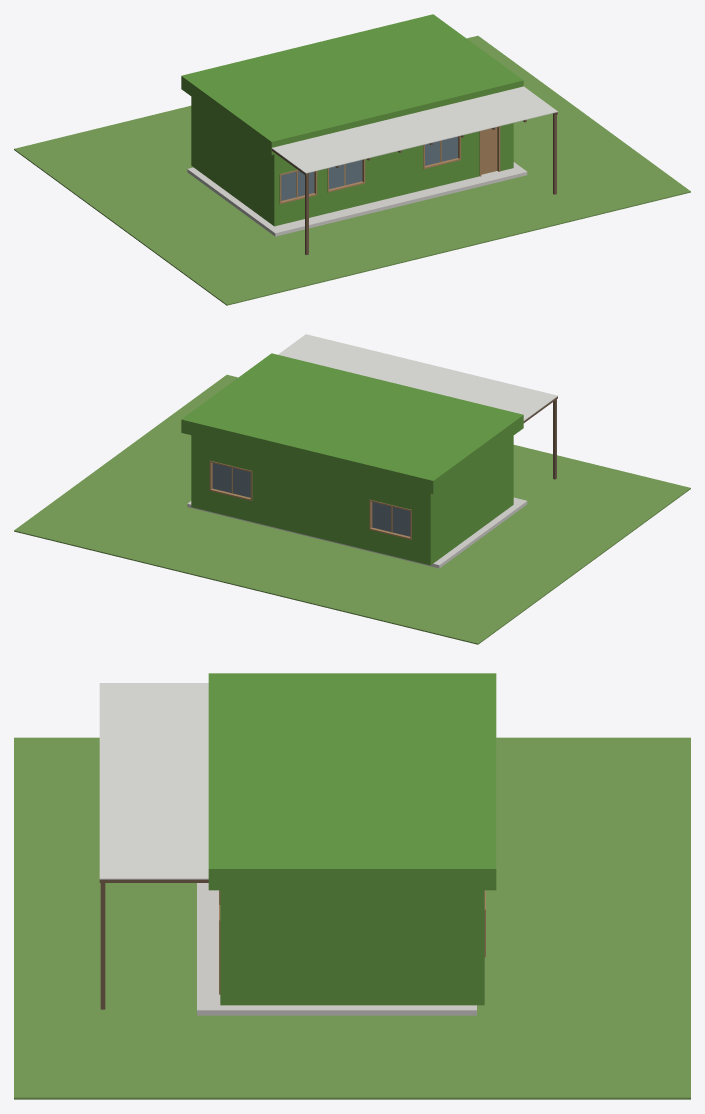
File: medialab.glb
3 views of the same model, one above another, from view 1: azimuth 30°, elevation 25°; view 2: azimuth 150°, elevation 25°; view 3: azimuth 270°, elevation 25° (orthographic). The views are drawn at different scales.
Visible parts, largest first — view 1: MediaLab - Laboratorio de Medios Audiovisuales; view 2: MediaLab - Laboratorio de Medios Audiovisuales; view 3: MediaLab - Laboratorio de Medios Audiovisuales.
Boxes of the visible parts, left/top/right/bottom form: MediaLab - Laboratorio de Medios Audiovisuales: left=14, top=14, right=690, bottom=305; MediaLab - Laboratorio de Medios Audiovisuales: left=14, top=334, right=690, bottom=644; MediaLab - Laboratorio de Medios Audiovisuales: left=14, top=673, right=690, bottom=1099.
Bounding box in the file's own units: 21.9 × 4.2 × 17.39.
